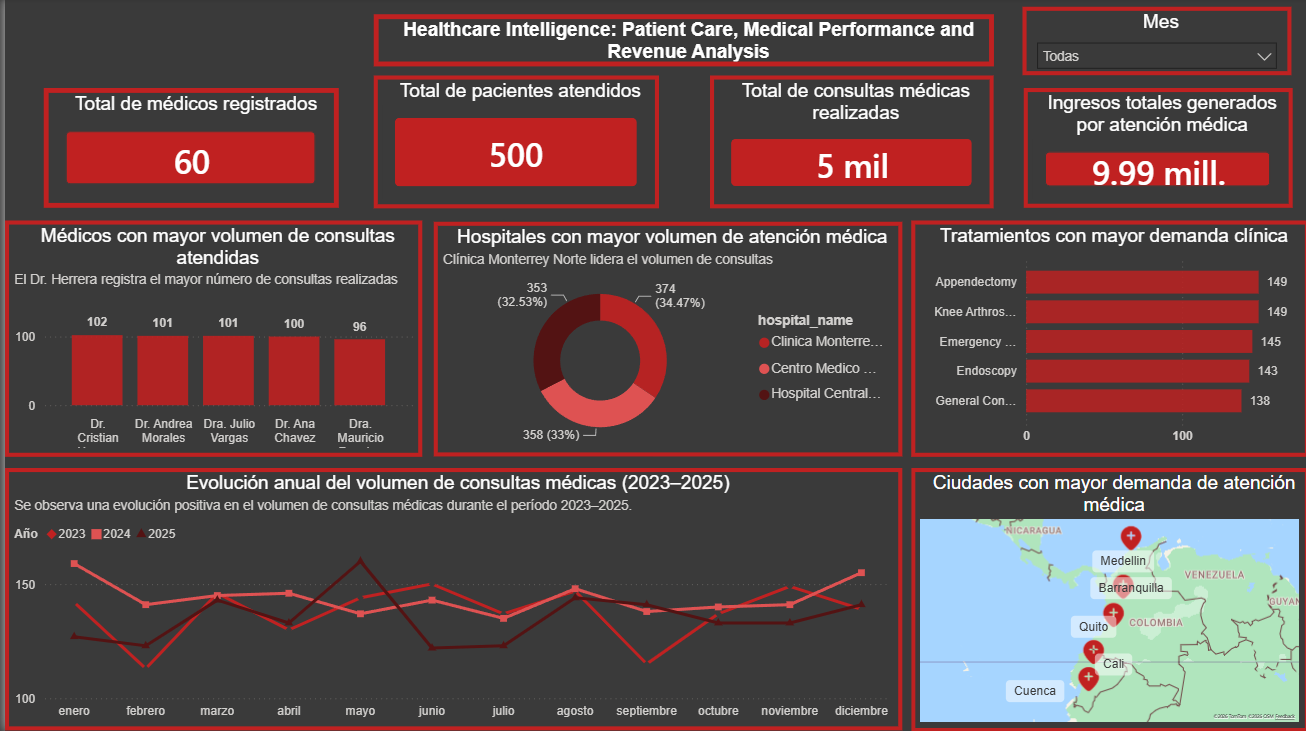

What the dashboard file says about the page in this screenshot:
{"tool":"powerbi","page":{"name":"analisis de hospital","canvas":[1280,720],"ordinal":0},"visuals":[{"type":"cardVisual","title":"Total de médicos registrados","fields":{"Data":["healthcare_doctors.cantidad_doctores"]},"box":[38,88.3,289.6,117.8],"z":0},{"type":"cardVisual","title":"Total de pacientes atendidos ","fields":{"Data":["healthcare_patients.cantidad_pacientes_unicos"]},"box":[362,76.1,279.8,130.1],"z":1000},{"type":"cardVisual","title":"Total de consultas médicas realizadas","fields":{"Data":["healthcare_patients.cantidad_consultas"]},"box":[692,76.1,278.5,130.1],"z":2000},{"type":"cardVisual","title":"Ingresos totales generados por atención médica","fields":{"Data":["healthcare_appointments.ingreso_total"]},"box":[1000,88.3,263.8,117.8],"z":3000},{"type":"columnChart","title":"Médicos con mayor volumen de consultas atendidas","fields":{"Category":["healthcare_doctors.doctor_name"],"Y":["healthcare_patients.cantidad_consultas"]},"box":[0,218.4,409.8,231.9],"z":4000},{"type":"donutChart","title":"Hospitales con mayor volumen de atención médica","fields":{"Category":["healthcare_hospitals.hospital_name"],"Y":["healthcare_patients.cantidad_consultas"]},"box":[420.9,219.6,460.1,230.7],"z":5000},{"type":"lineChart","title":"Evolución anual del volumen de consultas médicas (2023–2025)","fields":{"Category":["healthcare_appointments.appointment_date.Variación.Jerarquía de fechas.Mes"],"Y":["healthcare_patients.cantidad_consultas"],"Series":["healthcare_appointments.appointment_date.Variación.Jerarquía de fechas.Año"]},"box":[0,461.4,881,257.7],"z":6000},{"type":"clusteredBarChart","title":"Tratamientos con mayor demanda clínica","fields":{"Category":["healthcare_treatments.treatment_name"],"Y":["healthcare_patients.cantidad_consultas"]},"box":[889.6,218.4,390.2,231.9],"z":7000},{"type":"azureMap","title":"Ciudades con mayor demanda de atención médica","fields":{"Category":["healthcare_patients.city"],"Y":["healthcare_patients.cantidad_consultas"]},"box":[889.6,461.4,390.2,258.9],"z":8000},{"type":"slicer","title":"Mes","fields":{"Values":["healthcare_appointments.appointment_date.Variación.Jerarquía de fechas.Mes"]},"box":[998.8,8.6,263.8,67.5],"z":8001},{"type":"textbox","title":"Healthcare Intelligence: Patient Care, Medical Performance and Revenue Analysis","box":[362,16,608.6,51.5],"z":8002}]}

Visuals, with their boxes in screenshot pixels (x1, y1, x2, y2), scaled from the page's 1280x720 canvas onto the 1306x731 screenshot:
"Total de médicos registrados" cardVisual: (x1=39, y1=90, x2=334, y2=209)
"Total de pacientes atendidos " cardVisual: (x1=369, y1=77, x2=655, y2=209)
"Total de consultas médicas realizadas" cardVisual: (x1=706, y1=77, x2=990, y2=209)
"Ingresos totales generados por atención médica" cardVisual: (x1=1020, y1=90, x2=1289, y2=209)
"Médicos con mayor volumen de consultas atendidas" columnChart: (x1=0, y1=222, x2=418, y2=457)
"Hospitales con mayor volumen de atención médica" donutChart: (x1=429, y1=223, x2=899, y2=457)
"Evolución anual del volumen de consultas médicas (2023–2025)" lineChart: (x1=0, y1=468, x2=899, y2=730)
"Tratamientos con mayor demanda clínica" clusteredBarChart: (x1=908, y1=222, x2=1305, y2=457)
"Ciudades con mayor demanda de atención médica" azureMap: (x1=908, y1=468, x2=1305, y2=730)
"Mes" slicer: (x1=1019, y1=9, x2=1288, y2=77)
"Healthcare Intelligence: Patient Care, Medical Performance and Revenue Analysis" textbox: (x1=369, y1=16, x2=990, y2=69)
